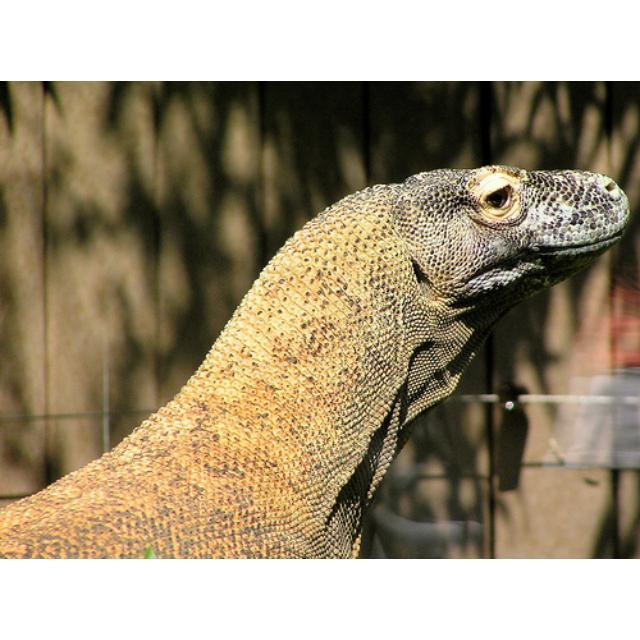KomodoDragon: (1, 163, 632, 557)
